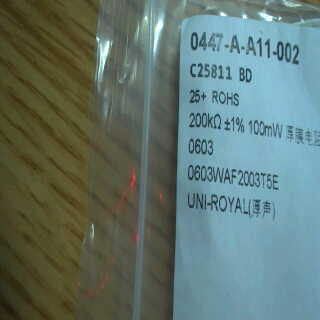200kR: (186, 108, 223, 136)
